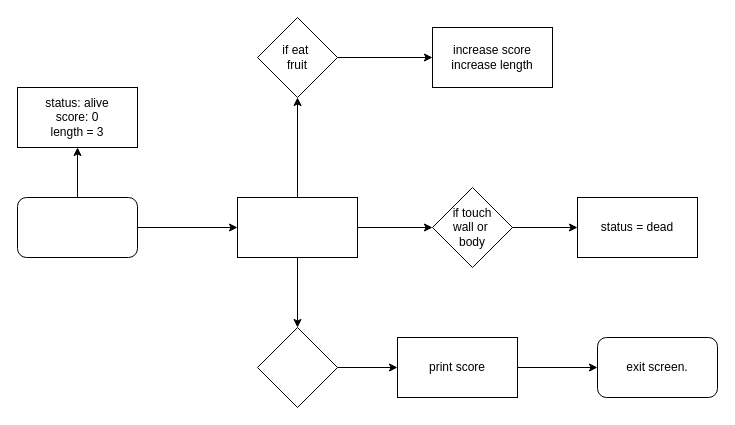
Image size: 735x425. Some labels were removed from this diagram. The centre of each missing label's shape, as x and y in pixels:
if dead: (297,367)
listen and move the snake: (297,227)
Start game: (77,227)
